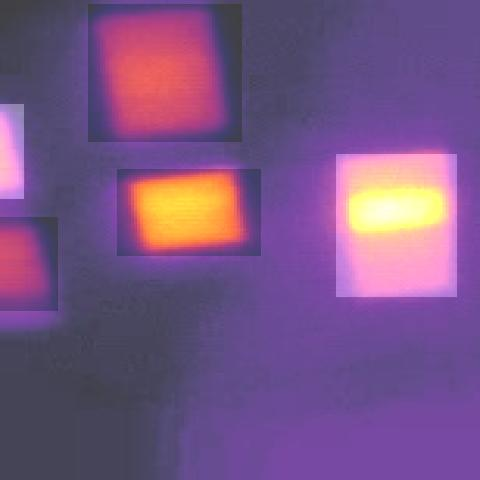fault: (88, 4, 242, 142), (336, 154, 457, 297), (117, 169, 261, 256), (0, 218, 58, 312), (0, 104, 24, 199)
